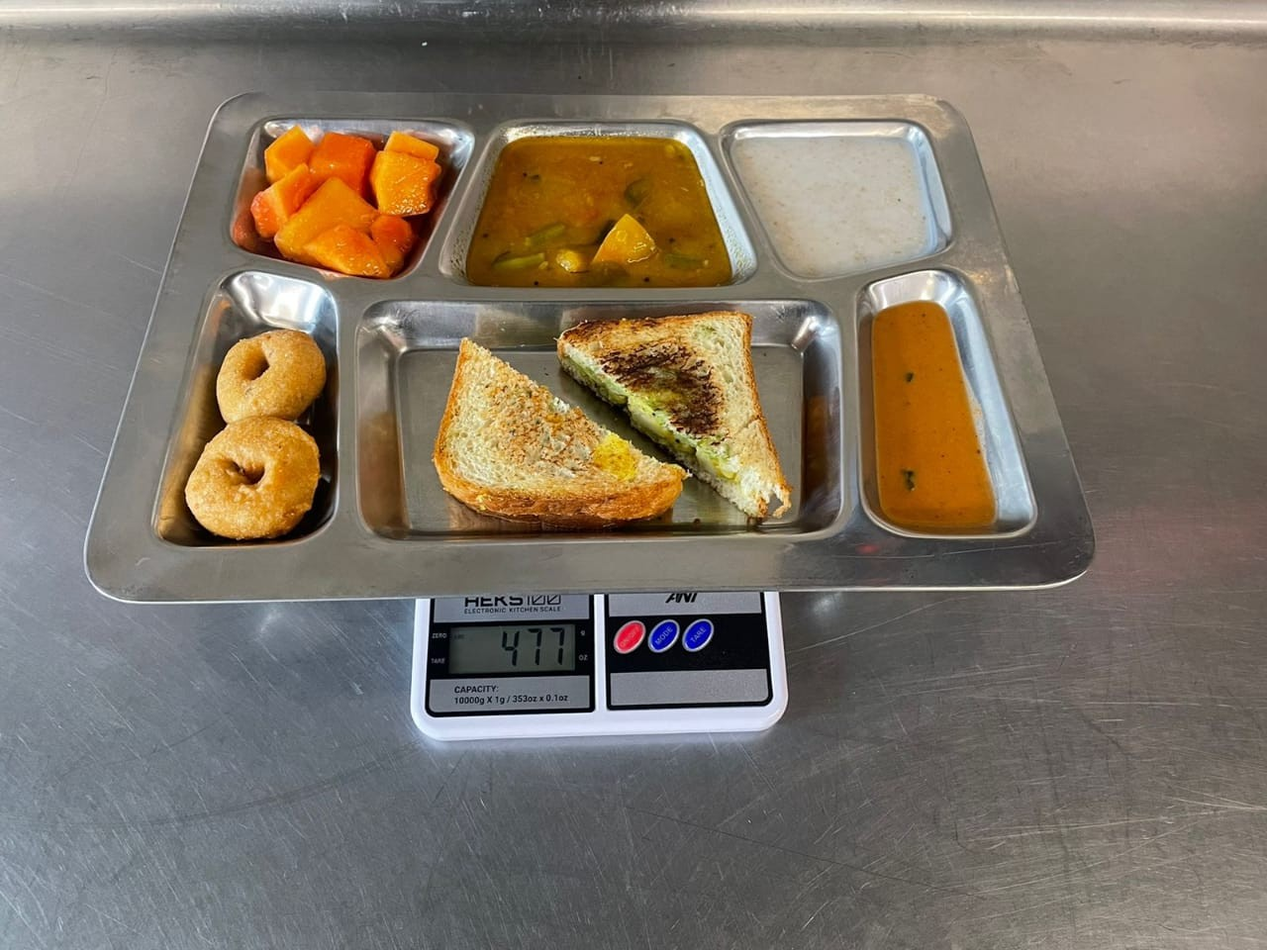bowl: (360, 296, 833, 565), (466, 108, 729, 310), (167, 284, 337, 578), (844, 278, 1008, 568), (716, 114, 976, 275), (221, 99, 440, 279)
